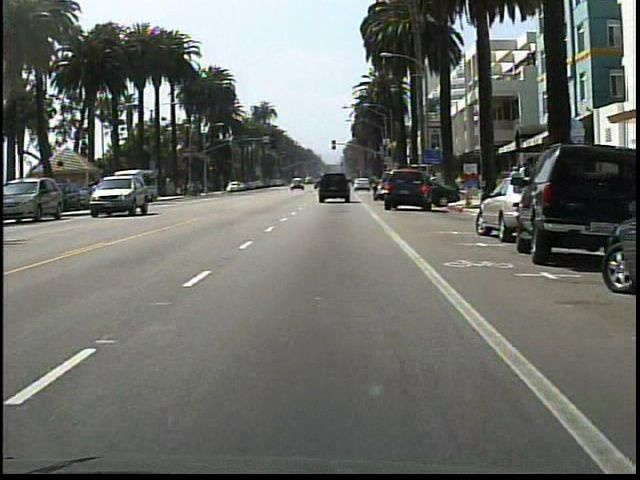person: (366, 173, 383, 204)
